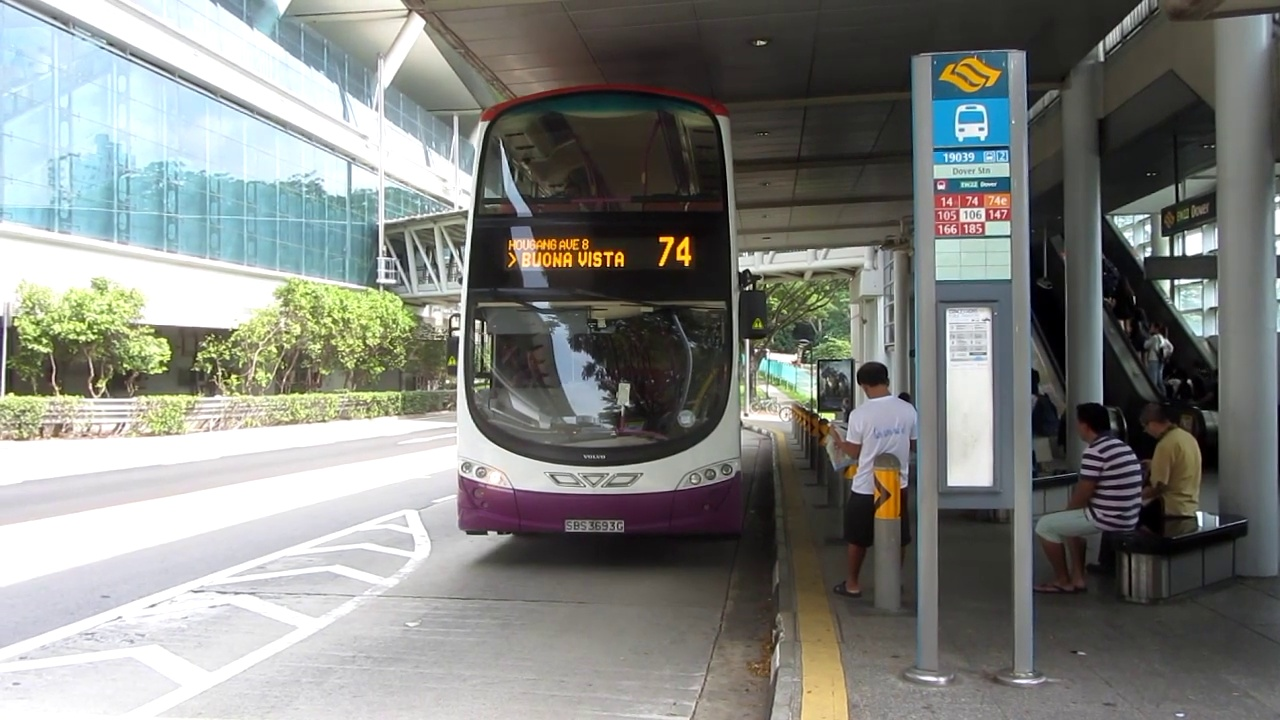bus panel: (502, 232, 699, 273)
